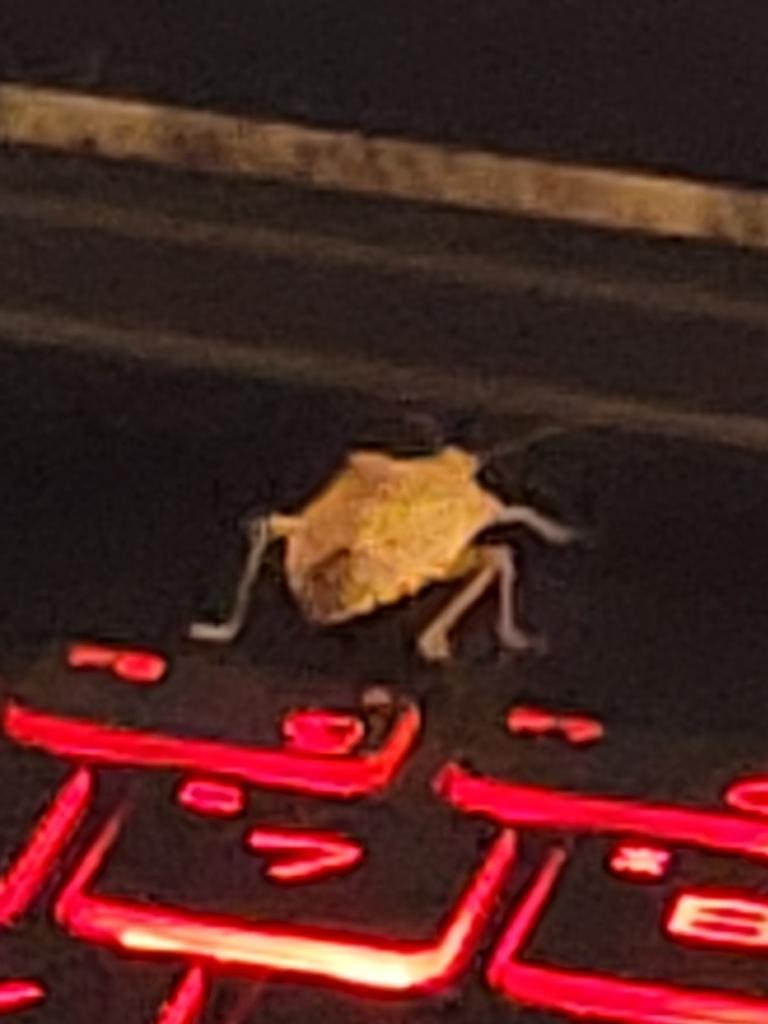stink_bugs: (160, 354, 602, 706)
